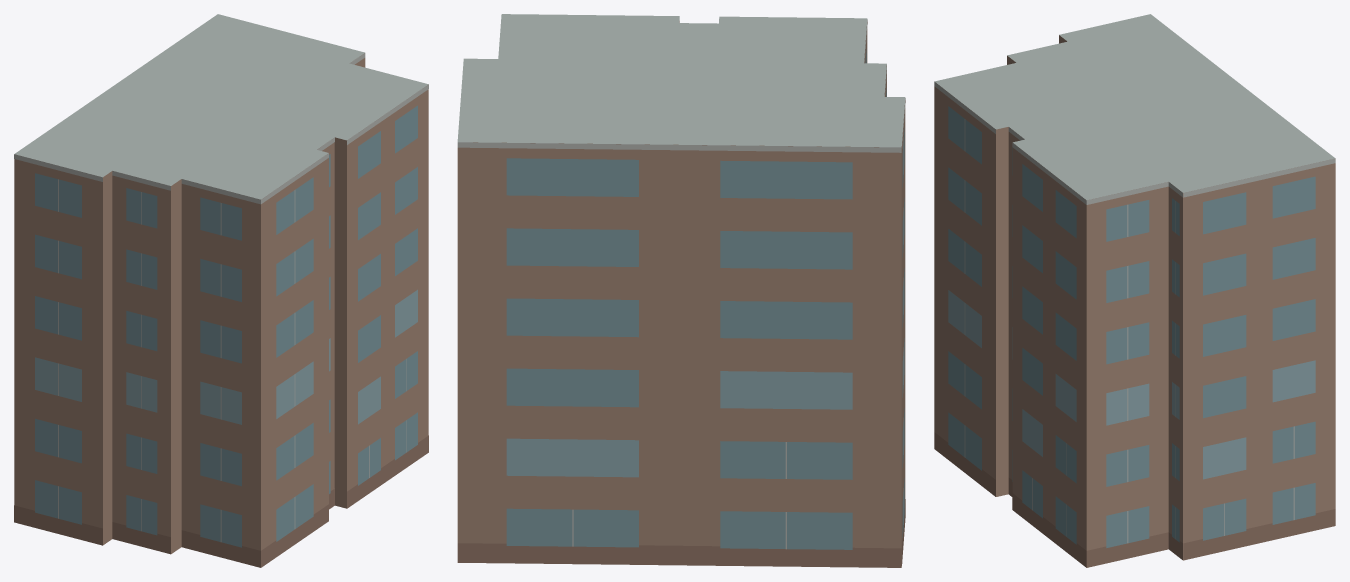
Rendered from survey-upis-32907641.glb.
3 renders of one model, left to right at view 1: azimuth 30°, elevation 25°; view 2: azimuth 150°, elevation 25°; view 3: azimuth 270°, elevation 25°, orthographic. The views are drawn at different scales.
Parts seen in each view (by area): view 1: survey-upis-32907641.tmp; view 2: survey-upis-32907641.tmp; view 3: survey-upis-32907641.tmp.
Part boxes in pixels (x1,y1,x2,y2): survey-upis-32907641.tmp: (14, 14, 428, 567); survey-upis-32907641.tmp: (457, 14, 905, 567); survey-upis-32907641.tmp: (934, 14, 1335, 567).
Bounding box in the file's own units: 20.45 × 18.8 × 18.6.
